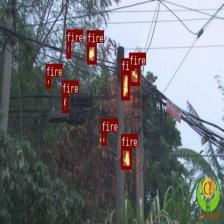fire: (120, 71, 130, 99), (121, 146, 131, 169), (129, 65, 139, 85), (87, 42, 96, 64), (62, 93, 68, 112), (66, 41, 71, 58), (101, 131, 106, 145), (46, 76, 50, 87)
